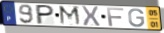9: (18, 4, 36, 25)
F: (106, 7, 125, 27)
G: (127, 8, 146, 28)
M: (58, 5, 83, 27)
P: (36, 4, 55, 26)
X: (80, 5, 102, 27)
